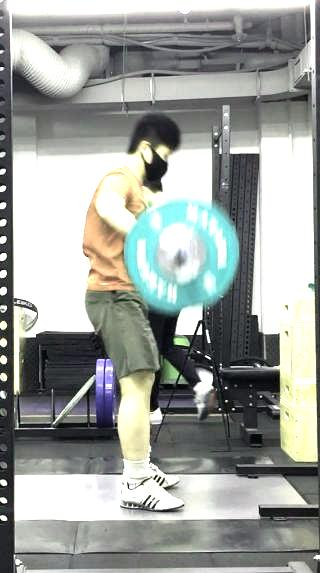Barbell: (177, 238, 196, 262)
